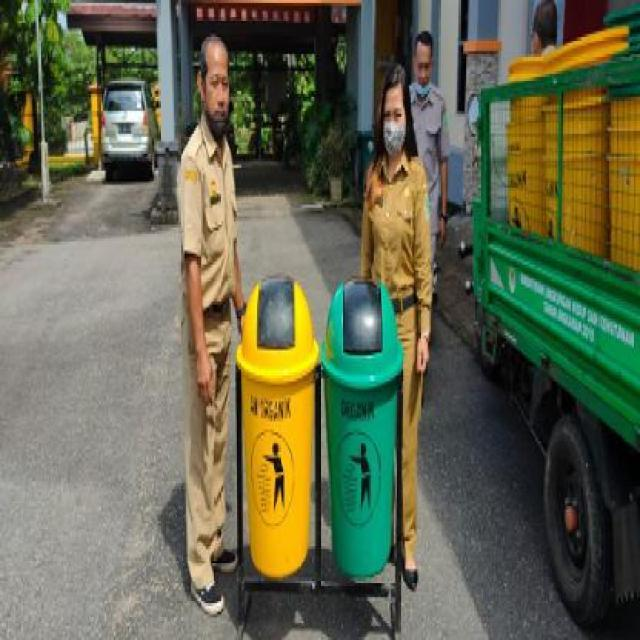garbage container: (321, 271, 407, 599), (235, 269, 320, 595)
